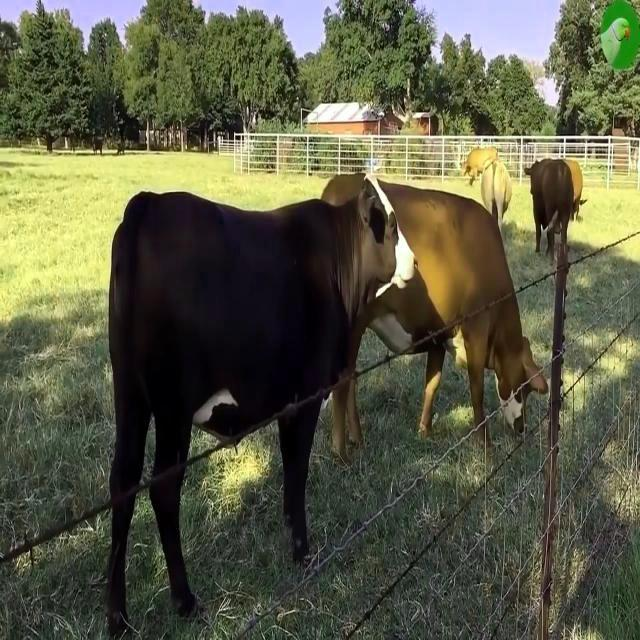cow: (106, 175, 414, 636), (359, 181, 548, 448), (332, 381, 361, 461)
